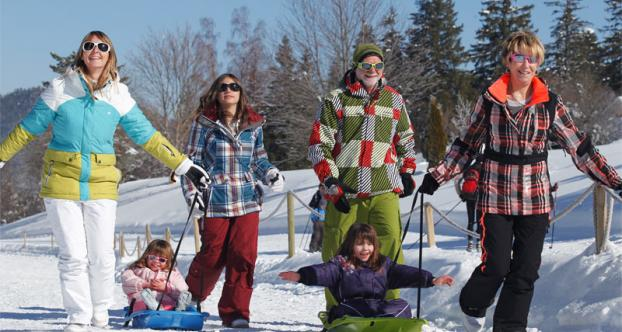without_mask: (505, 45, 540, 89), (77, 34, 112, 73), (215, 78, 242, 111), (357, 55, 384, 85), (350, 231, 376, 262), (146, 246, 168, 273)
